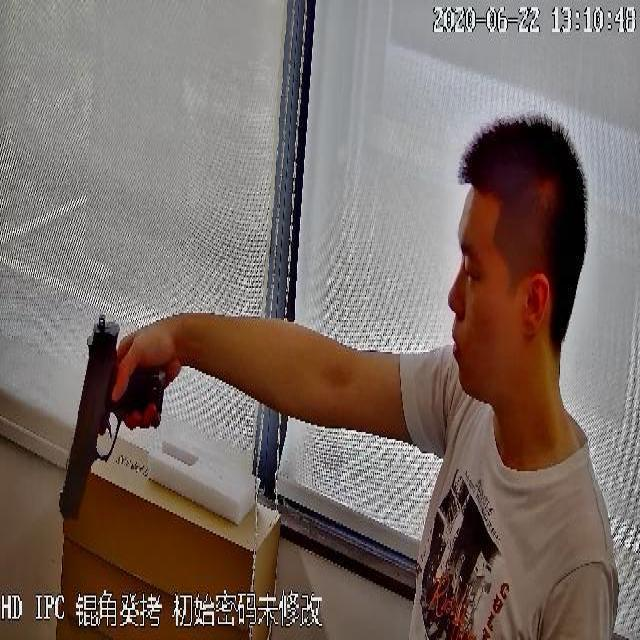pistol: (60, 316, 168, 524)
